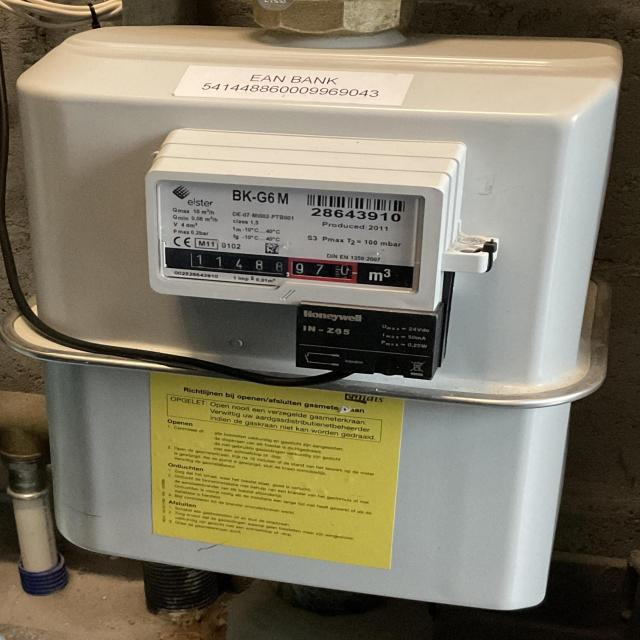gaz_meter: (149, 175, 437, 309)
indication: (176, 246, 362, 284)
